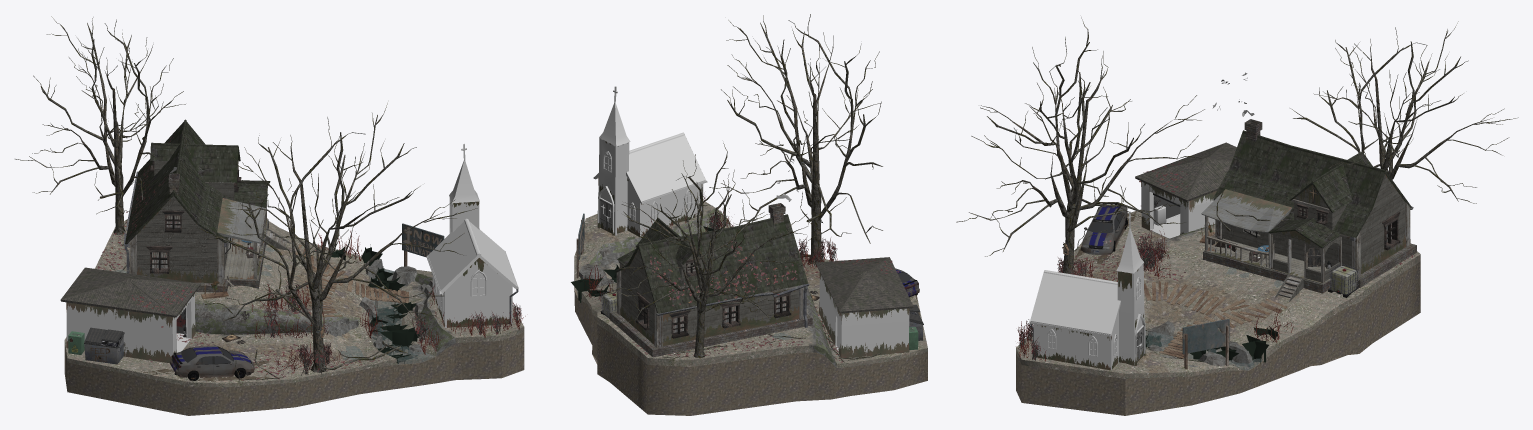
File: DioramaTest.fbx
3 renders of one model, left to right at view 1: azimuth 30°, elevation 25°; view 2: azimuth 150°, elevation 25°; view 3: azimuth 270°, elevation 25°, orthographic. The views are drawn at different scales.
Parts seen in each view (by area): view 1: SM_House, SM_GroundBase, polySurface14636, SM_Garage, SM_Chapel, SM_TreeMid, SM_TreeBack, SM_PlantsRiver, SM_RockStructure, SM_Car, SM_Moss, SM_Water (+9 smaller); view 2: SM_House, polySurface14636, SM_Chapel, SM_Garage, SM_GroundBase, SM_TreeMid, SM_TreeBack, SM_Moss, SM_RockStructure, SM_PlantsRiver, SM_LeavesHouse, SM_PlantsTreeMid (+6 smaller); view 3: SM_House, SM_GroundBase, polySurface14636, SM_Chapel, SM_TreeMid, SM_Garage, SM_TreeBack, SM_WoodPlanksRoad, SM_Car, SM_Salvation, SM_PlantsRiver, SM_RiverStone (+4 smaller).
Boxes of the visible parts, left/top/right/bottom form: SM_House: left=124, top=119, right=291, bottom=292; SM_GroundBase: left=64, top=219, right=524, bottom=387; polySurface14636: left=64, top=332, right=524, bottom=415; SM_Garage: left=60, top=267, right=200, bottom=364; SM_Chapel: left=426, top=143, right=518, bottom=327; SM_TreeMid: left=196, top=103, right=477, bottom=372; SM_TreeBack: left=15, top=16, right=185, bottom=234; SM_PlantsRiver: left=315, top=231, right=440, bottom=363; SM_RockStructure: left=195, top=275, right=454, bottom=356; SM_Car: left=170, top=345, right=254, bottom=380; SM_Moss: left=195, top=273, right=454, bottom=351; SM_Water: left=369, top=269, right=435, bottom=364; SM_House: left=609, top=158, right=812, bottom=357; polySurface14636: left=574, top=261, right=927, bottom=415; SM_Chapel: left=593, top=86, right=707, bottom=237; SM_Garage: left=816, top=257, right=923, bottom=357; SM_GroundBase: left=574, top=200, right=927, bottom=367; SM_TreeMid: left=709, top=14, right=882, bottom=264; SM_TreeBack: left=595, top=143, right=807, bottom=358; SM_Moss: left=579, top=208, right=836, bottom=364; SM_RockStructure: left=579, top=208, right=836, bottom=367; SM_PlantsRiver: left=571, top=208, right=733, bottom=302; SM_LeavesHouse: left=650, top=241, right=797, bottom=306; SM_PlantsTreeMid: left=798, top=236, right=837, bottom=270; SM_House: left=1201, top=72, right=1416, bottom=301; SM_GroundBase: left=1016, top=209, right=1420, bottom=378; polySurface14636: left=1016, top=262, right=1420, bottom=415; SM_Chapel: left=1029, top=211, right=1145, bottom=370; SM_TreeMid: left=956, top=17, right=1204, bottom=274; SM_Garage: left=1135, top=142, right=1236, bottom=238; SM_TreeBack: left=1290, top=21, right=1518, bottom=203; SM_WoodPlanksRoad: left=1144, top=281, right=1287, bottom=330; SM_Car: left=1080, top=203, right=1127, bottom=255; SM_Salvation: left=1182, top=319, right=1229, bottom=368; SM_PlantsRiver: left=1145, top=307, right=1296, bottom=363; SM_RiverStone: left=1148, top=321, right=1253, bottom=366.
Size of the model in its own units: 2664 by 1824 by 3305.
